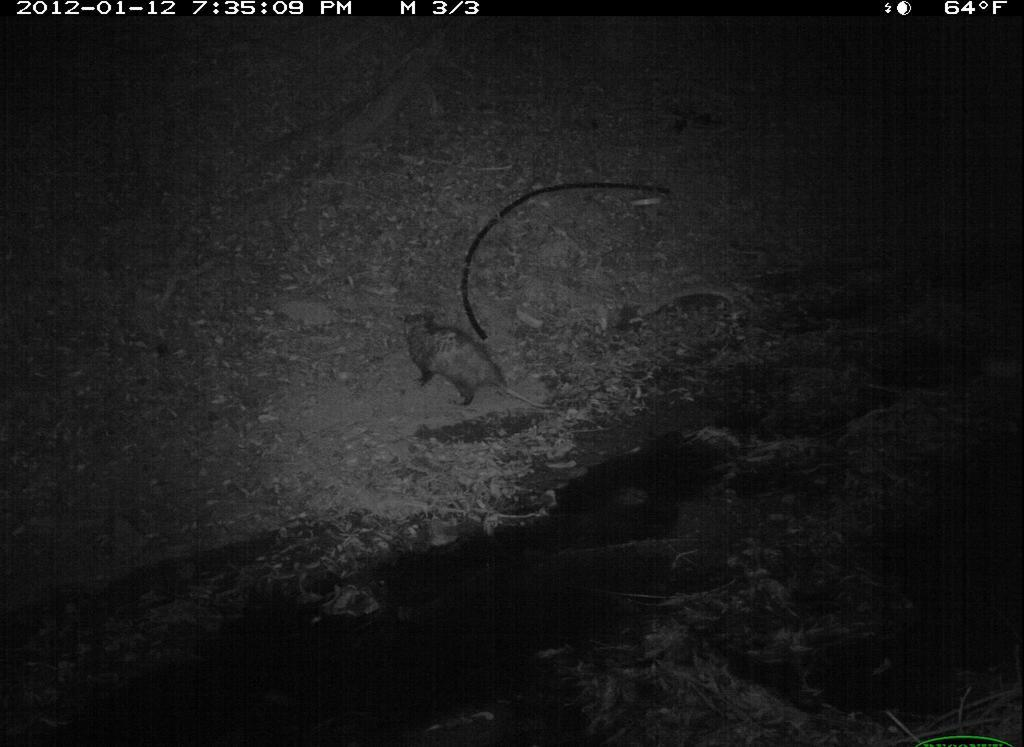opossum: (395, 304, 565, 427)
